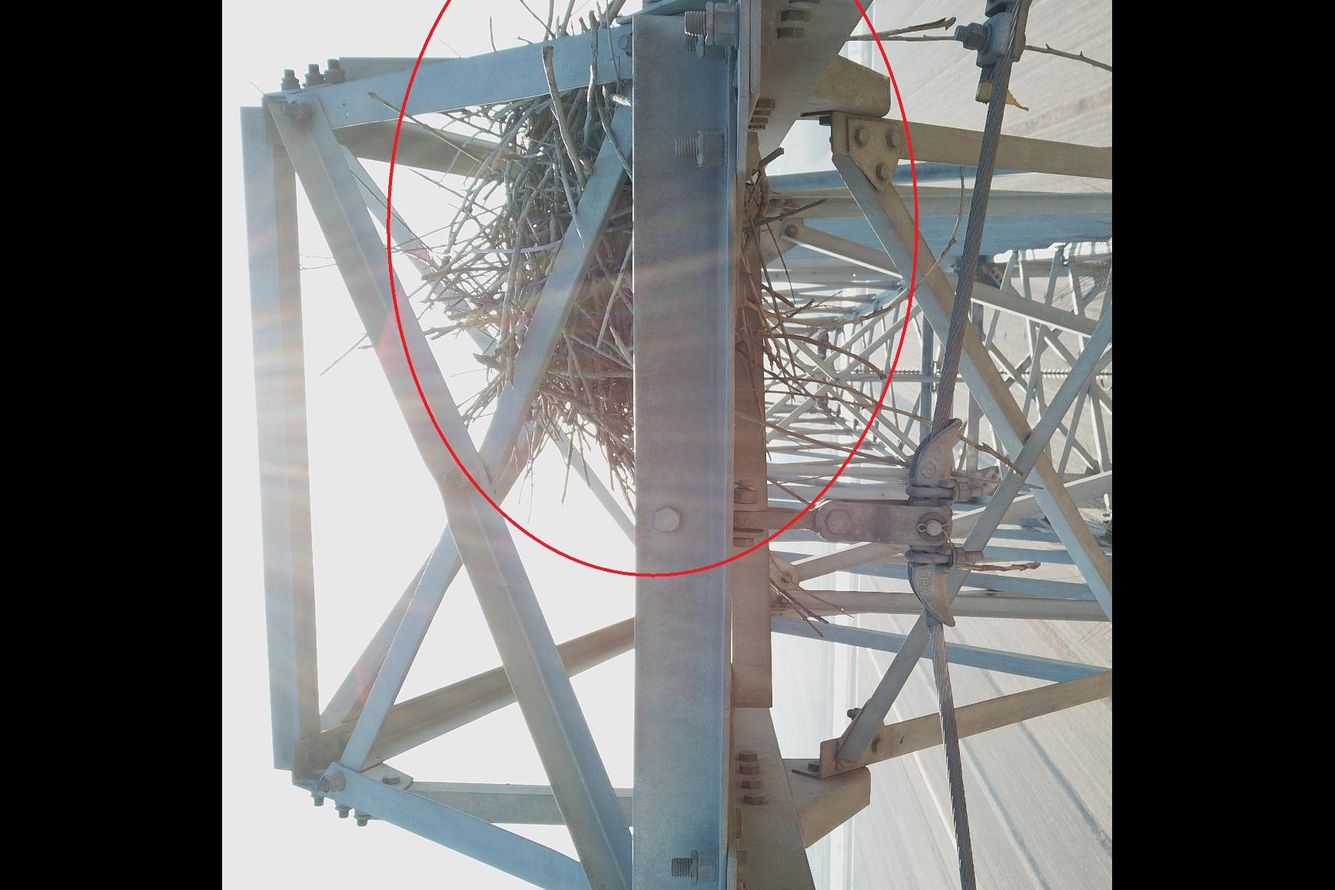nest: (408, 1, 852, 497)
